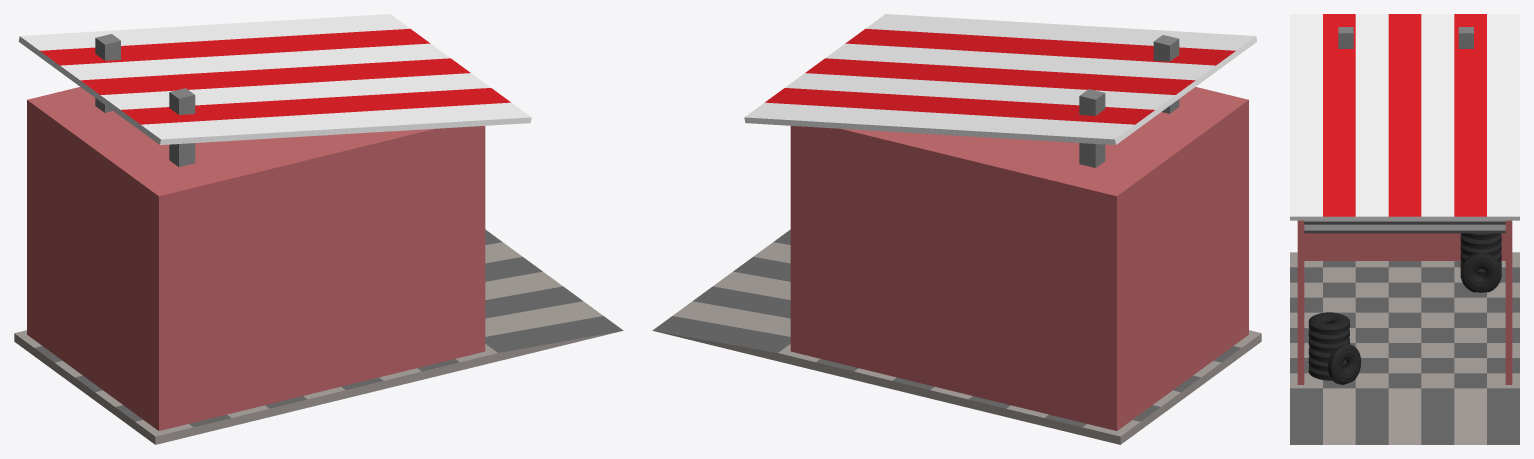
The picture shows the model from 3 angles, left to right: view 1: azimuth 30°, elevation 25°; view 2: azimuth 150°, elevation 25°; view 3: azimuth 270°, elevation 25°; orthographic projection. The views are drawn at different scales.
Visible parts, largest first — view 1: Cube, Cube.002, Cube.001, Cube.004, Cube.003; view 2: Cube, Cube.002, Cube.001, Cube.003, Cube.004; view 3: Cube.002, Cube.001, Cube, Cube.005, Torus.012, Torus.013, Torus.003, Torus.007, Torus.004, Cube.003, Cube.004, Torus.005 (+1 smaller).
Boxes of the visible parts, x1=… form: Cube: x1=27, y1=87, x2=485, y2=430; Cube.002: x1=18, y1=14, x2=531, y2=144; Cube.001: x1=14, y1=229, x2=623, y2=444; Cube.004: x1=169, y1=88, x2=195, y2=166; Cube.003: x1=95, y1=34, x2=120, y2=112; Cube: x1=790, y1=87, x2=1248, y2=430; Cube.002: x1=744, y1=14, x2=1257, y2=144; Cube.001: x1=652, y1=229, x2=1261, y2=444; Cube.003: x1=1079, y1=89, x2=1105, y2=167; Cube.004: x1=1153, y1=35, x2=1179, y2=113; Cube.002: x1=1290, y1=14, x2=1519, y2=220; Cube.001: x1=1290, y1=252, x2=1519, y2=444; Cube: x1=1297, y1=220, x2=1512, y2=384; Cube.005: x1=1304, y1=220, x2=1505, y2=233; Torus.012: x1=1460, y1=252, x2=1501, y2=292; Torus.013: x1=1328, y1=344, x2=1361, y2=384; Torus.003: x1=1308, y1=312, x2=1349, y2=335; Torus.007: x1=1460, y1=233, x2=1501, y2=249; Torus.004: x1=1308, y1=328, x2=1349, y2=344; Cube.003: x1=1458, y1=27, x2=1473, y2=48; Cube.004: x1=1338, y1=27, x2=1353, y2=48; Torus.005: x1=1308, y1=337, x2=1349, y2=352.
Bounding box in the file's own units: 1435 × 912 × 750.
